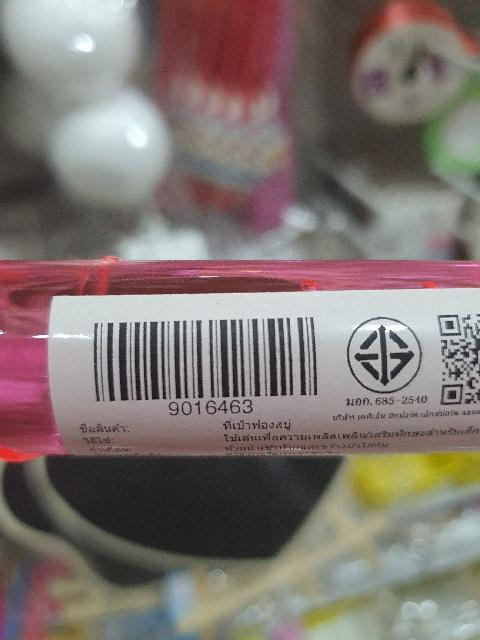Barcode: (86, 309, 326, 419)
